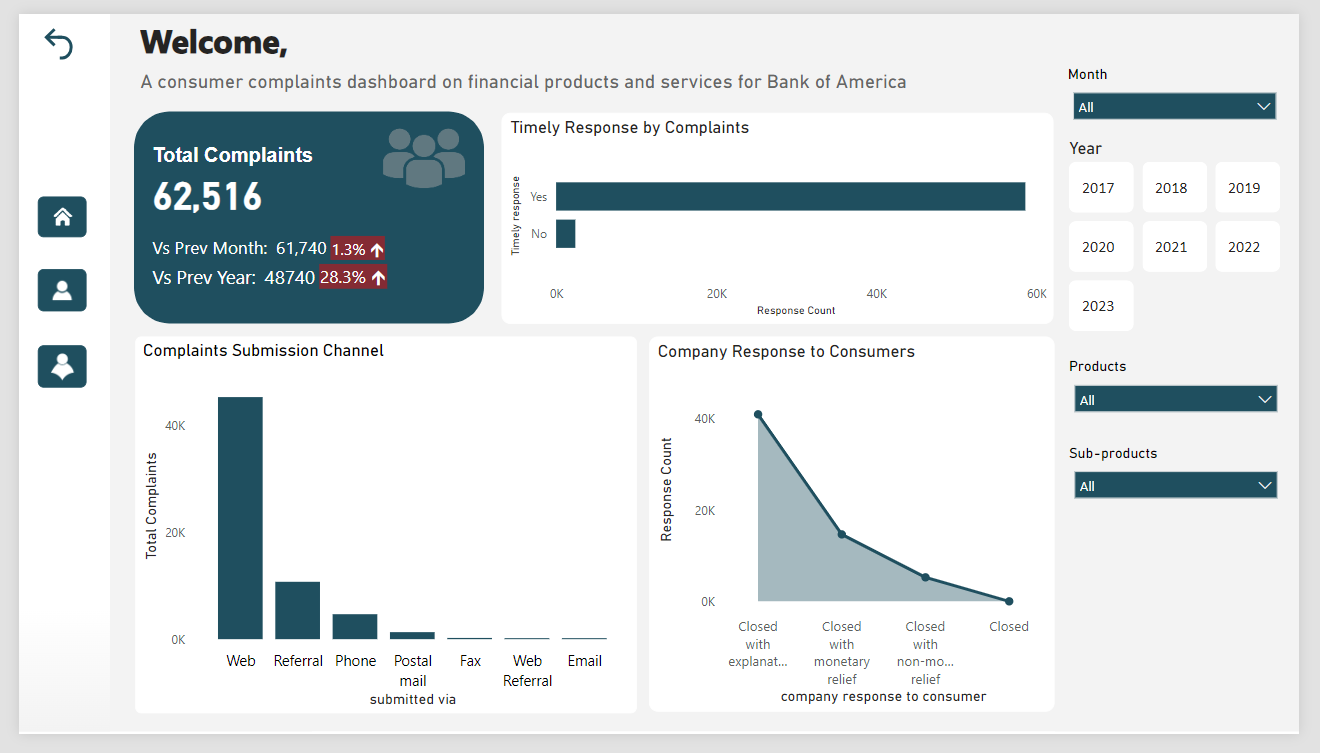

The dashboard page shown, as its layout file describes it:
{"tool":"powerbi","page":{"name":"Page 3","canvas":[1280,720],"ordinal":2},"visuals":[{"type":"textbox","box":[116.1,0,367.7,64.5],"z":0},{"type":"textbox","box":[116.5,50.6,955.7,48.1],"z":1000},{"type":"columnChart","title":"Complaints Submission Channel","fields":{"Y":["DAX  Measures.Total Number of Complaints"],"Category":["Means Submitted.submitted via"]},"box":[116.2,322.1,501.5,376.5],"z":2000},{"type":"clusteredBarChart","title":"Timely Response by Complaints","fields":{"Category":["complaints.Timely response"],"Y":["CountNonNull(complaints.Response Count)"]},"box":[483.1,98.6,552.1,211.3],"z":3000},{"type":"advancedSlicerVisual","fields":{"Values":["date.Year"]},"box":[1045.6,124.1,222.8,198.7],"z":4000},{"type":"stackedAreaChart","title":"Company Response to Consumers","fields":{"Category":["Company response to consumer.company response to consumer"],"Y":["CountNonNull(complaints.Response Count)"]},"box":[629.4,322.1,405.9,375],"z":5000},{"type":"image","box":[19.1,182.4,48.5,41.2],"z":6000},{"type":"image","box":[19.1,254.4,48.5,42.6],"z":7000},{"type":"image","box":[19.1,330.9,48.5,42.6],"z":8000},{"type":"actionButton","box":[18.8,8.7,58,42],"z":9000},{"type":"slicer","title":"Month","fields":{"Values":["date.Date.Variation.Date Hierarchy.Month"]},"box":[1044.1,51.5,223.5,69.1],"z":10000},{"type":"slicer","title":"Products","fields":{"Values":["Products.products"]},"box":[1045.6,344.1,223.5,69.1],"z":11000},{"type":"slicer","title":"Sub-products","fields":{"Values":["complaints.Sub-product"]},"box":[1045.6,429.4,223.5,69.1],"z":12000},{"type":"cardVisual","fields":{"Data":["DAX  Measures.Total Number of Complaints"]},"box":[116.2,98.5,339.7,207.4],"z":13000}]}

Visuals, with their boxes in screenshot pixels (x1, y1, x2, y2), scaled from the page's 1280x720 canvas onto the 1320x753 screenshot:
textbox: select_region(120, 0, 499, 67)
textbox: select_region(120, 53, 1106, 103)
"Complaints Submission Channel" columnChart: select_region(120, 337, 637, 731)
"Timely Response by Complaints" clusteredBarChart: select_region(498, 103, 1068, 324)
advancedSlicerVisual - date.Year: select_region(1078, 130, 1308, 338)
"Company Response to Consumers" stackedAreaChart: select_region(649, 337, 1068, 729)
image: select_region(20, 191, 70, 234)
image: select_region(20, 266, 70, 311)
image: select_region(20, 346, 70, 391)
actionButton: select_region(19, 9, 79, 53)
"Month" slicer: select_region(1077, 54, 1307, 126)
"Products" slicer: select_region(1078, 360, 1309, 432)
"Sub-products" slicer: select_region(1078, 449, 1309, 521)
cardVisual - DAX  Measures.Total Number of Complaints: select_region(120, 103, 470, 320)
